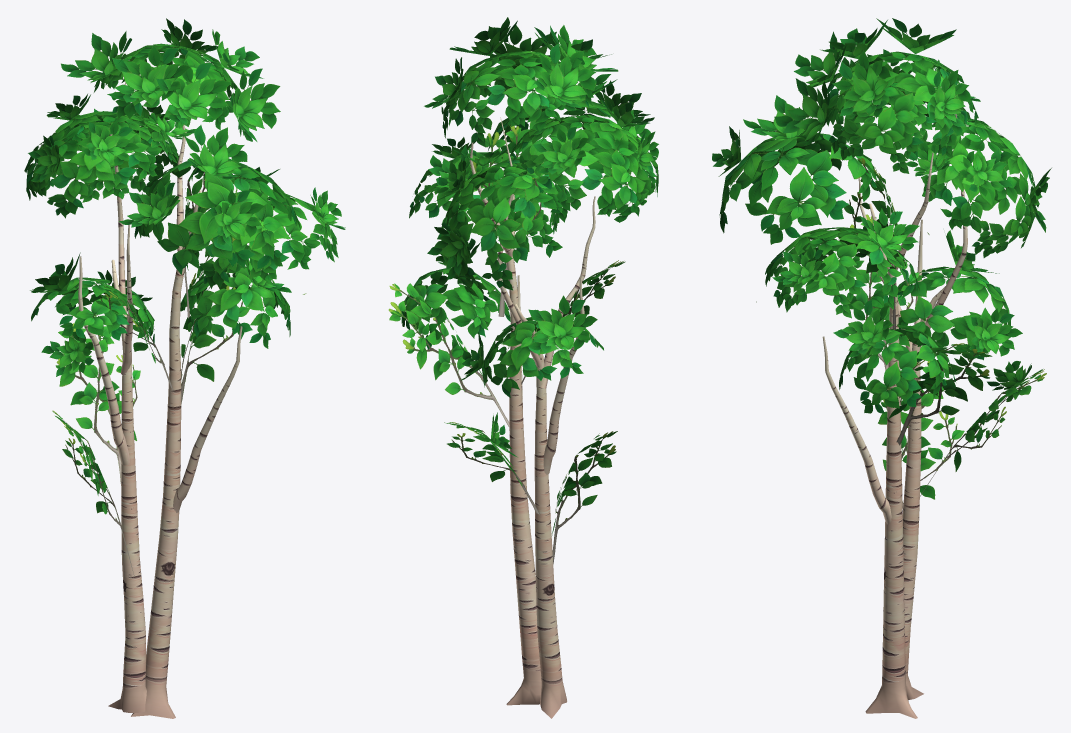
File: SE_Birch_03.fbx
The picture shows the model from 3 angles, left to right: view 1: azimuth 30°, elevation 25°; view 2: azimuth 150°, elevation 25°; view 3: azimuth 270°, elevation 25°; orthographic projection. The views are drawn at different scales.
Parts seen in each view (by area): view 1: SE_Birch_03; view 2: SE_Birch_03; view 3: SE_Birch_03.
Boxes of the visible parts, <box> form: SE_Birch_03: <box>24,18,345,718</box>; SE_Birch_03: <box>388,17,658,718</box>; SE_Birch_03: <box>712,18,1051,718</box>.
Size of the model in its own units: 10.62 by 24.65 by 11.53.
